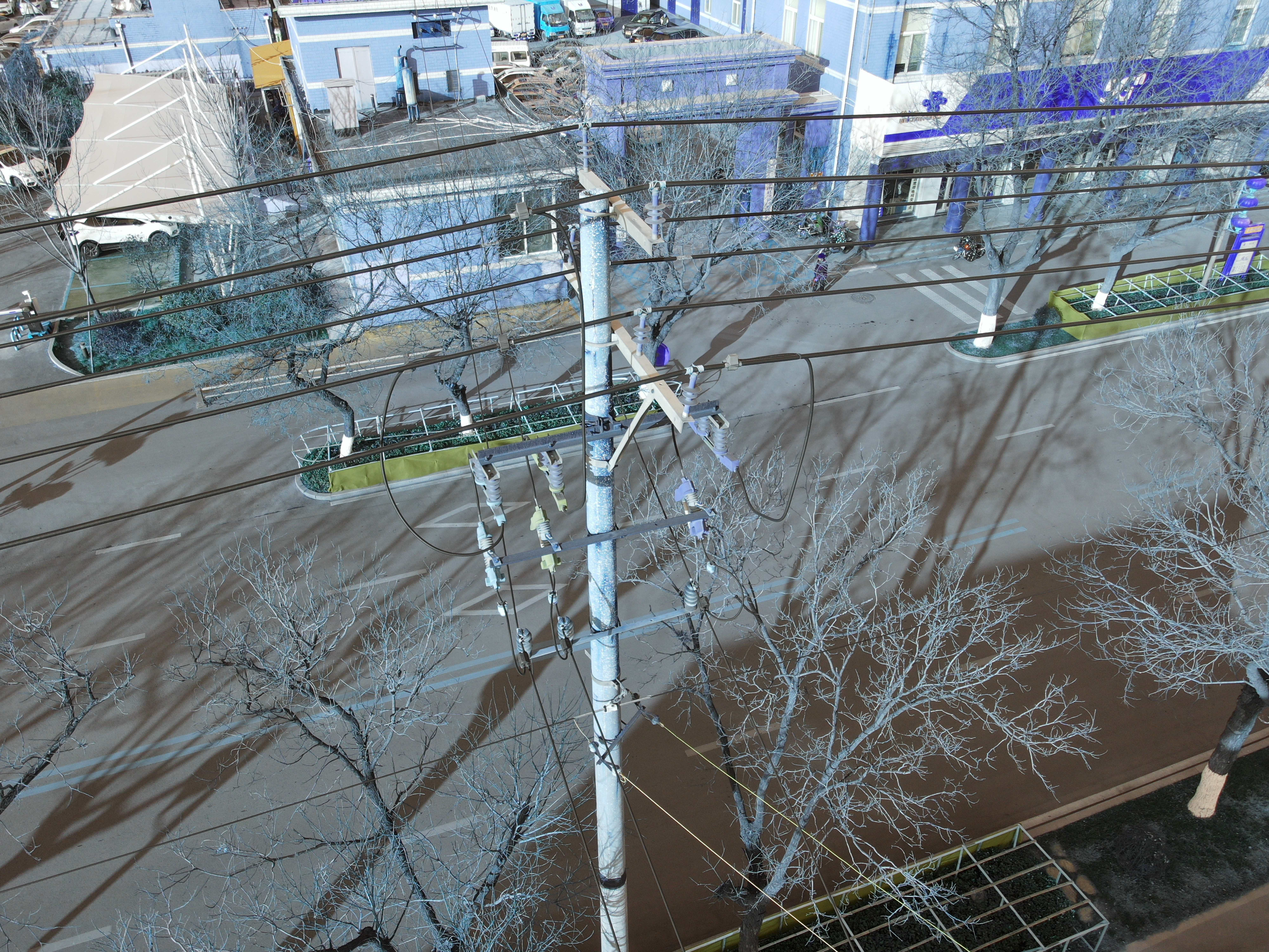severe_soiling_no_discharge_whole: (512, 627, 536, 656), (682, 579, 700, 611), (555, 617, 577, 642), (589, 741, 600, 751), (650, 717, 659, 725), (630, 692, 640, 699)
